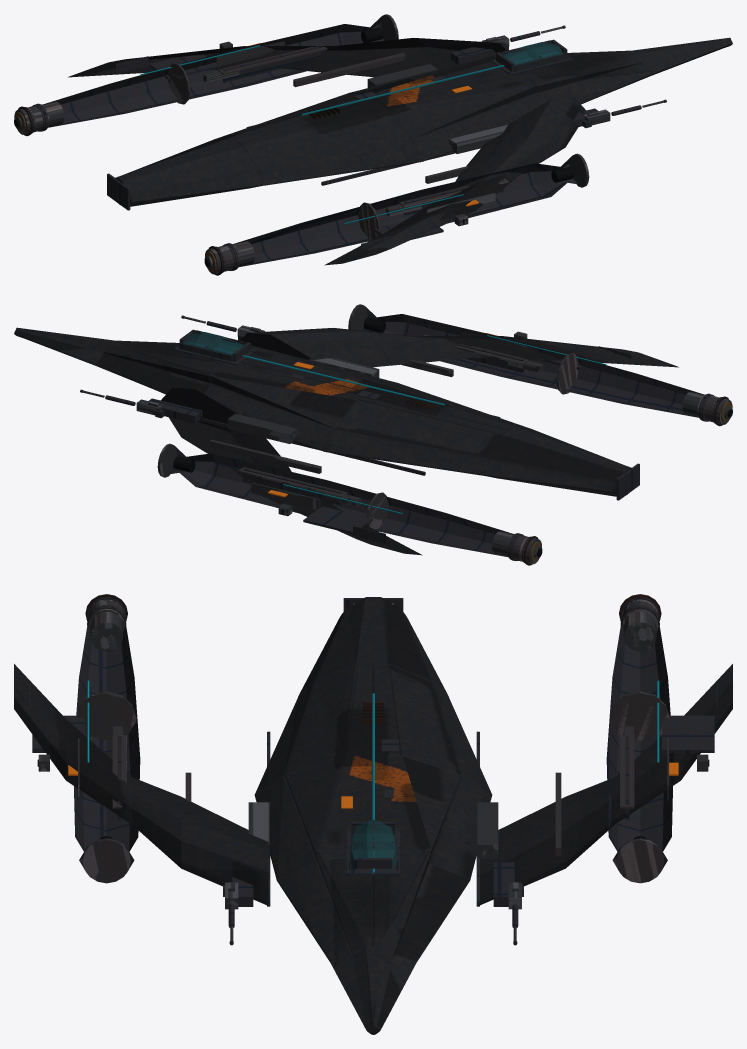
Rendered from wasp_production_v1_lod2.glb.
3 views of the same model, one above another, from view 1: azimuth 30°, elevation 25°; view 2: azimuth 150°, elevation 25°; view 3: azimuth 270°, elevation 25° (orthographic). The views are drawn at different scales.
Visible parts, largest first — view 1: LOD2_Hull, LOD2_Armor, LOD2_Mechanical, LOD2_Accent, LOD2_Canopy, LOD2_Thruster, LOD2_Radiator; view 2: LOD2_Hull, LOD2_Armor, LOD2_Mechanical, LOD2_Accent, LOD2_Canopy, LOD2_Thruster, LOD2_Radiator; view 3: LOD2_Hull, LOD2_Armor, LOD2_Mechanical, LOD2_Canopy, LOD2_Accent, LOD2_Radiator.
Part boxes in pixels (box(x1,y1,x2,y2)): LOD2_Hull: box(68, 37, 732, 265); LOD2_Armor: box(24, 17, 666, 273); LOD2_Mechanical: box(14, 14, 663, 274); LOD2_Accent: box(140, 45, 558, 224); LOD2_Canopy: box(502, 42, 563, 69); LOD2_Thruster: box(14, 27, 573, 266); LOD2_Radiator: box(18, 105, 340, 275); LOD2_Hull: box(14, 327, 678, 555); LOD2_Armor: box(80, 307, 722, 563); LOD2_Mechanical: box(83, 304, 732, 564); LOD2_Accent: box(188, 335, 606, 514); LOD2_Canopy: box(183, 332, 244, 359); LOD2_Thruster: box(173, 317, 732, 556); LOD2_Radiator: box(406, 395, 728, 565); LOD2_Hull: box(14, 597, 732, 1034); LOD2_Armor: box(29, 597, 717, 945); LOD2_Mechanical: box(38, 599, 708, 940); LOD2_Canopy: box(350, 820, 396, 870); LOD2_Accent: box(87, 680, 659, 873); LOD2_Radiator: box(85, 594, 661, 724).
Size of what is drawn, in the model's own units: 20.82 by 2.2 by 14.96.
Materials: 9 (9 with a texture image).
